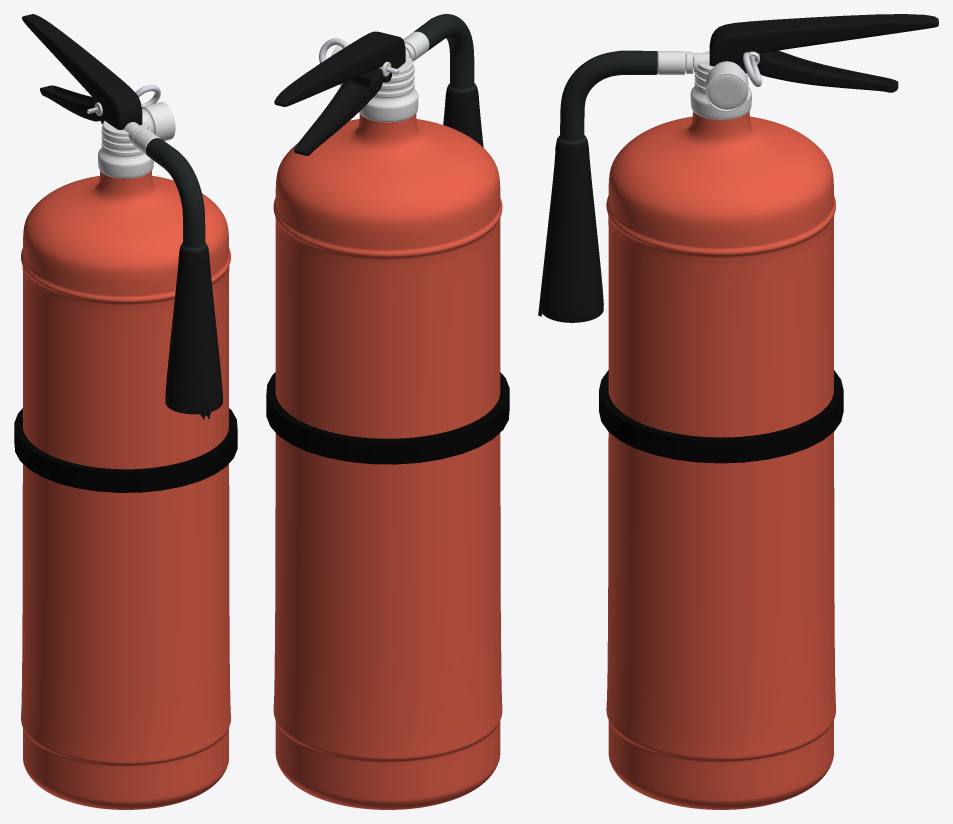
Rendered from FE_withPin.fbx.
The picture shows the model from 3 angles, left to right: view 1: azimuth 30°, elevation 25°; view 2: azimuth 150°, elevation 25°; view 3: azimuth 270°, elevation 25°; orthographic projection. The views are drawn at different scales.
Visible parts, largest first — view 1: FE_withPin; view 2: FE_withPin; view 3: FE_withPin.
Boxes of the visible parts, x1,y1,x2,y2 form: FE_withPin: (14,14,237,809); FE_withPin: (266,14,509,809); FE_withPin: (538,14,938,809).
Size of the model in its own units: 16.88 by 57.34 by 27.67.
